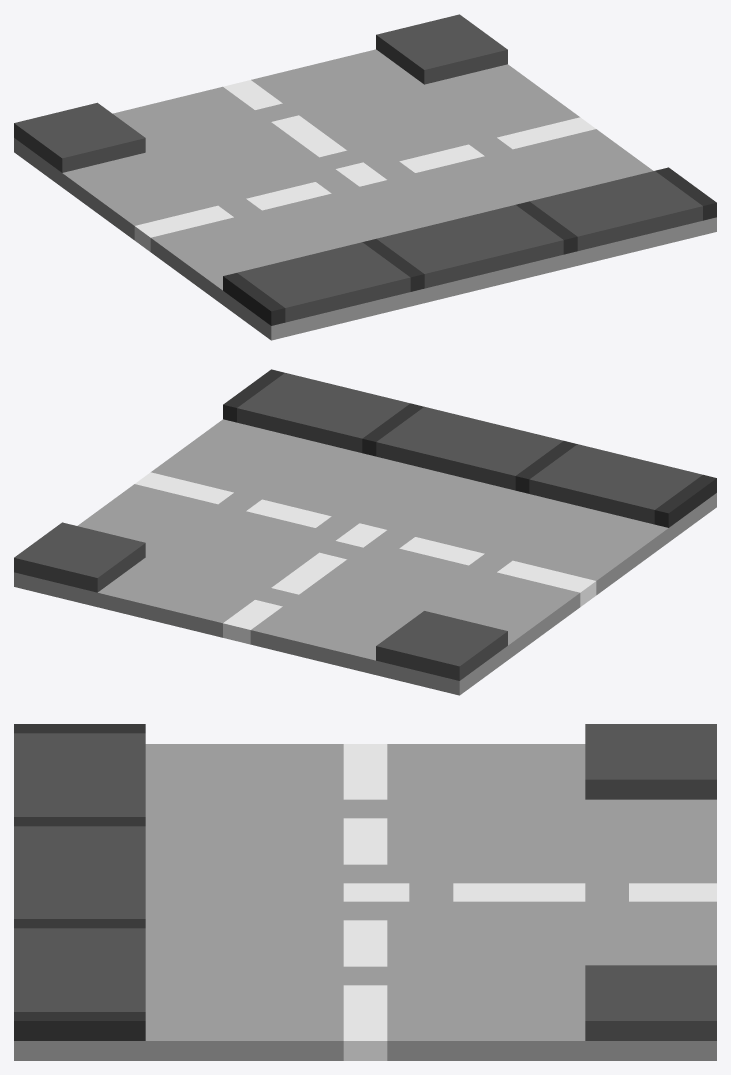
Rendered from town-4.obj.
3 renders of one model, top to bottom at view 1: azimuth 30°, elevation 25°; view 2: azimuth 150°, elevation 25°; view 3: azimuth 270°, elevation 25°, orthographic. The views are drawn at different scales.
Bounding box in the file's own units: 3.2 × 0.2 × 3.2.
Materials: 1 (1 with a texture image).
